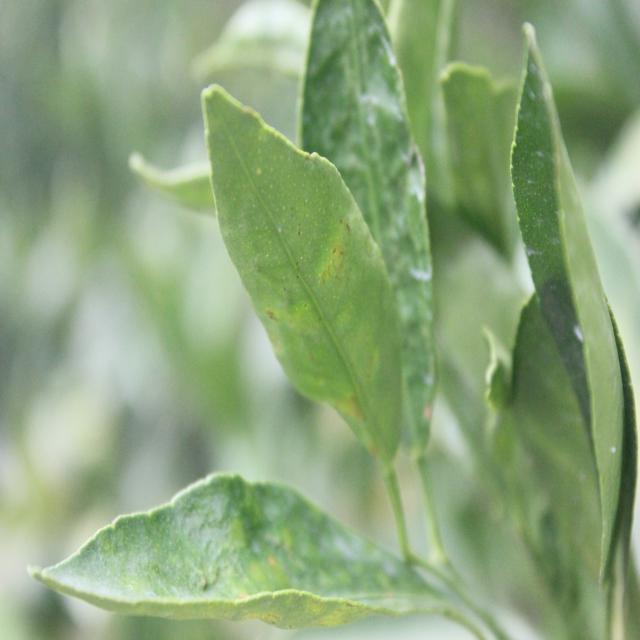canker: (244, 146, 412, 406), (177, 514, 400, 624)
